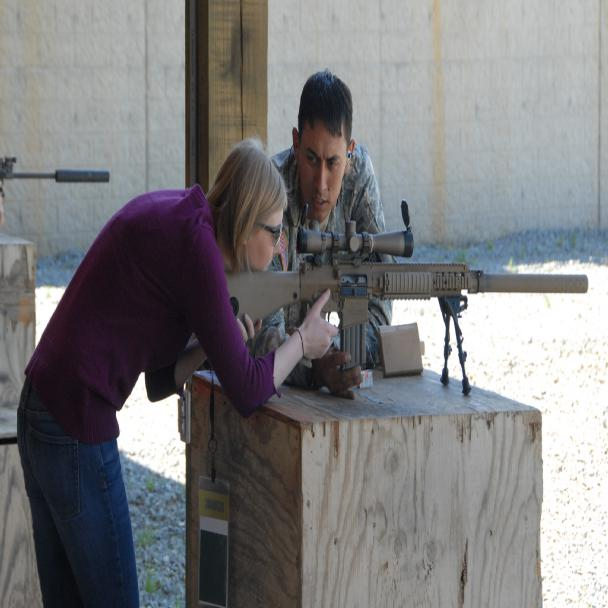Gun: (220, 224, 591, 368)
Hand: (279, 281, 343, 399)
